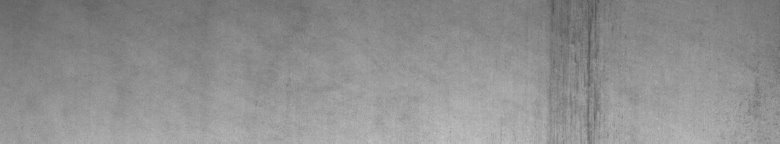ka: (545, 4, 605, 136)
